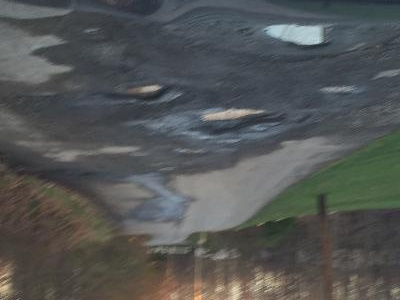pothole: (189, 107, 281, 137), (259, 20, 333, 51), (106, 81, 169, 103), (81, 0, 165, 16), (319, 86, 359, 98)
